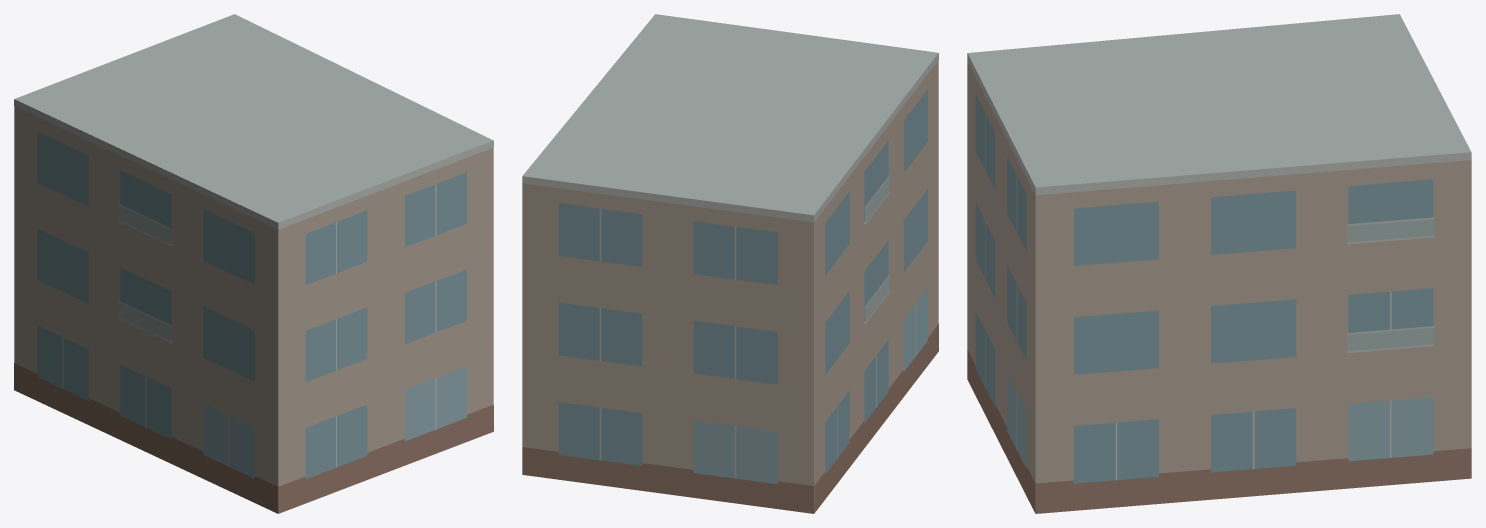
File: survey-upis-32638372.glb
3 views of the same model, side by side, from view 1: azimuth 30°, elevation 25°; view 2: azimuth 150°, elevation 25°; view 3: azimuth 270°, elevation 25° (orthographic). The views are drawn at different scales.
Visible parts, largest first — view 1: survey-upis-32638372.tmp; view 2: survey-upis-32638372.tmp; view 3: survey-upis-32638372.tmp.
Boxes of the visible parts, <box> form: survey-upis-32638372.tmp: <box>14,14,493,513</box>; survey-upis-32638372.tmp: <box>522,14,938,513</box>; survey-upis-32638372.tmp: <box>967,14,1471,513</box>.
Bounding box in the file's own units: 11.64 × 10.2 × 14.29.
